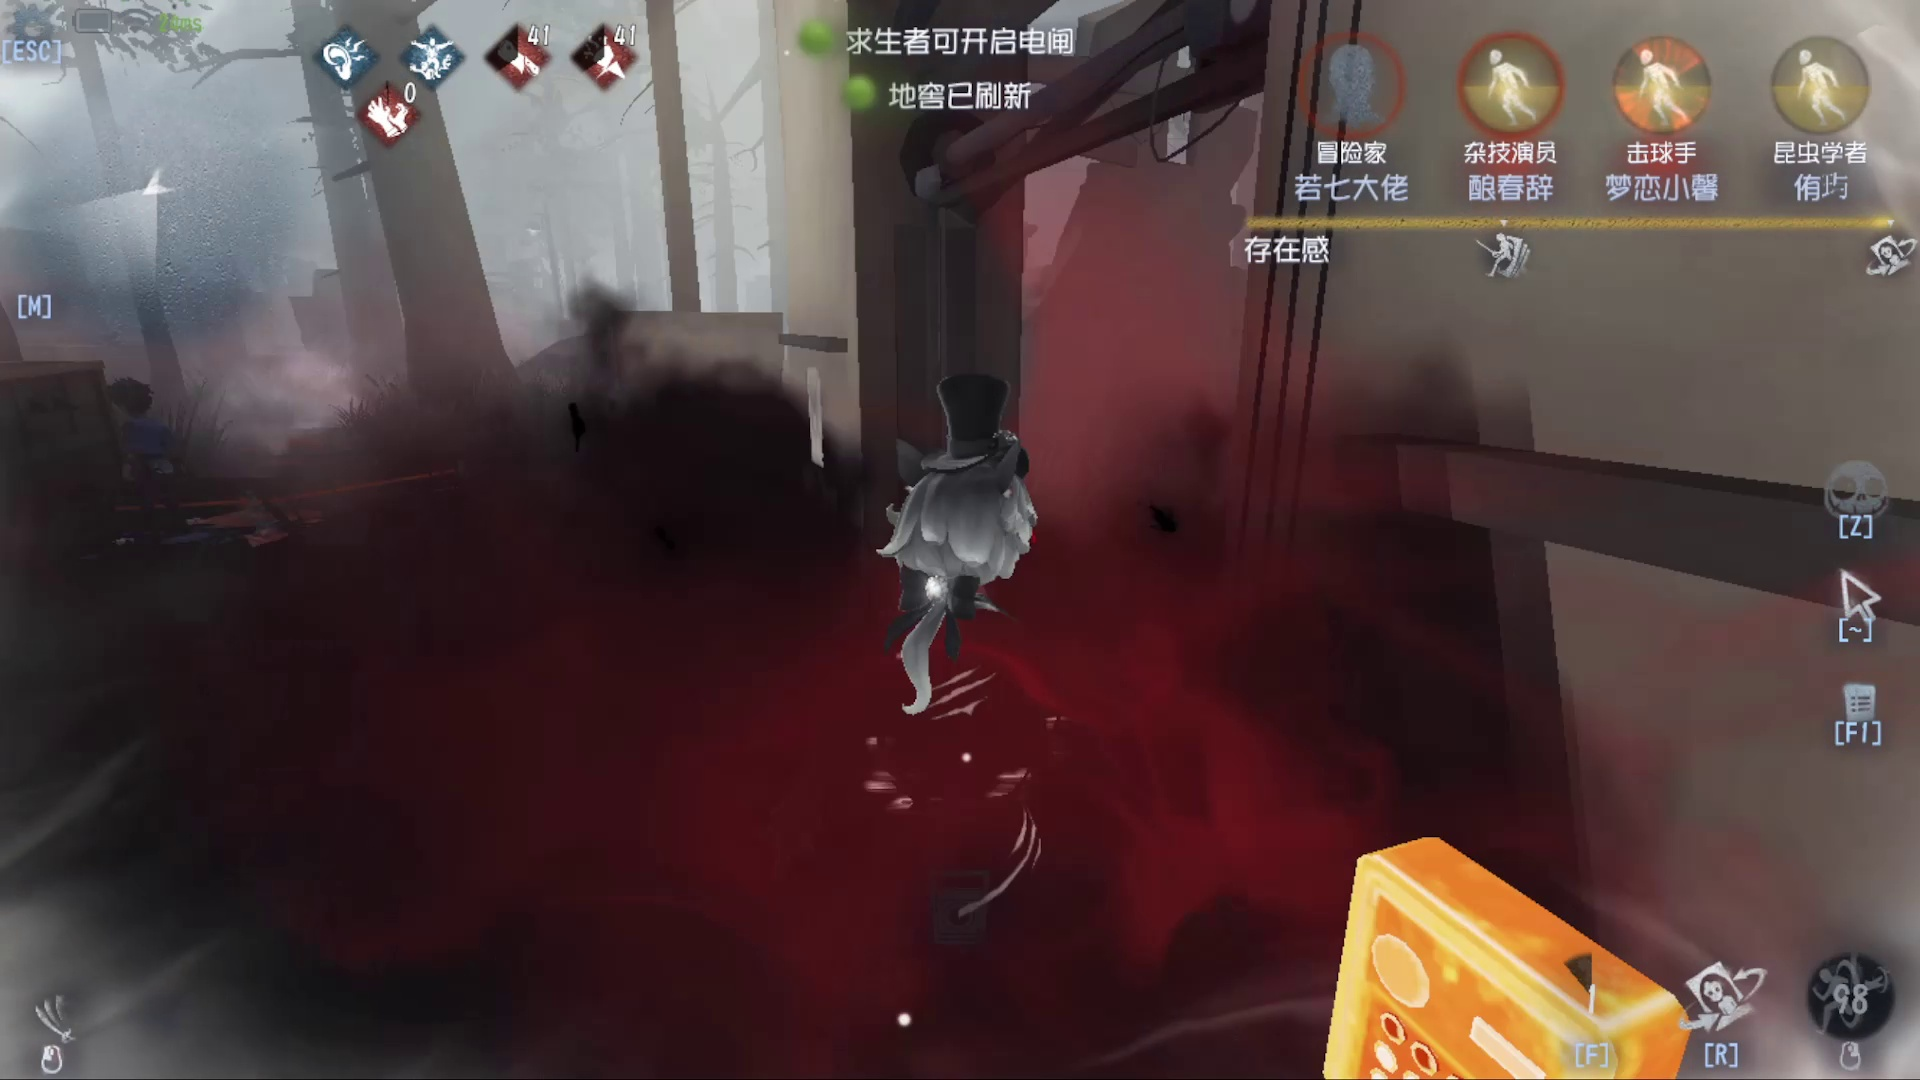求生者: (96, 367, 190, 529)
